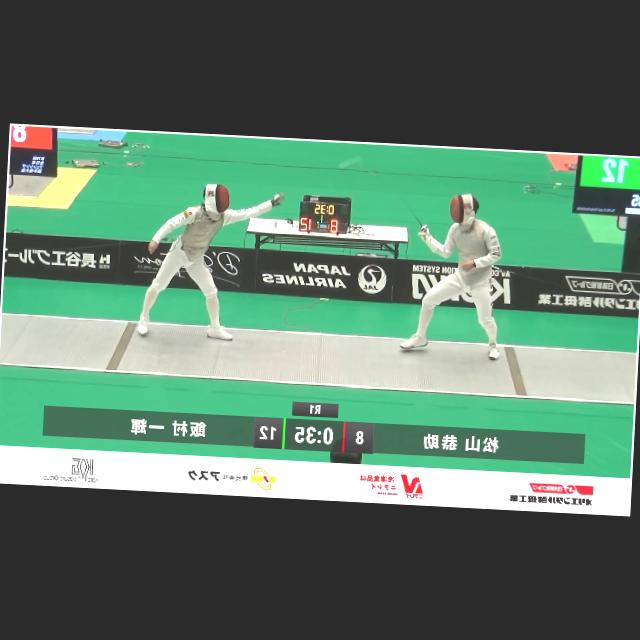blade: (274, 148, 367, 214), (364, 163, 434, 241)
